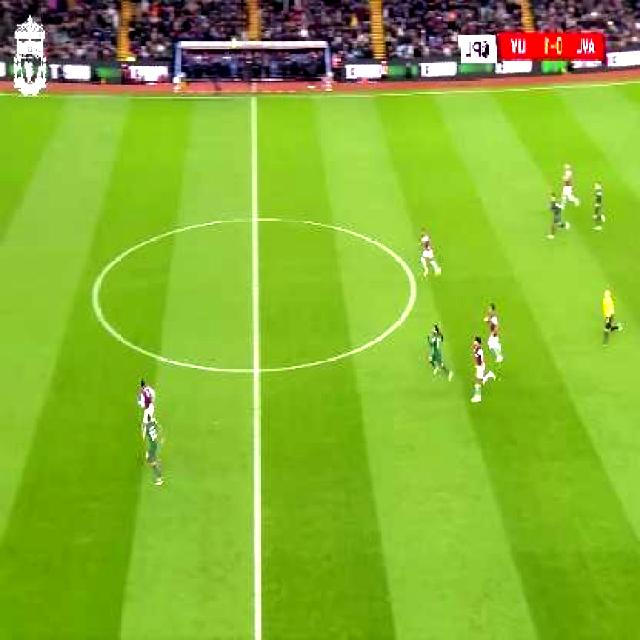halfcircle_bottom: (244, 350, 270, 388)
halfcircle_top: (243, 202, 271, 236)
midline_top_intersection: (243, 82, 263, 110)
